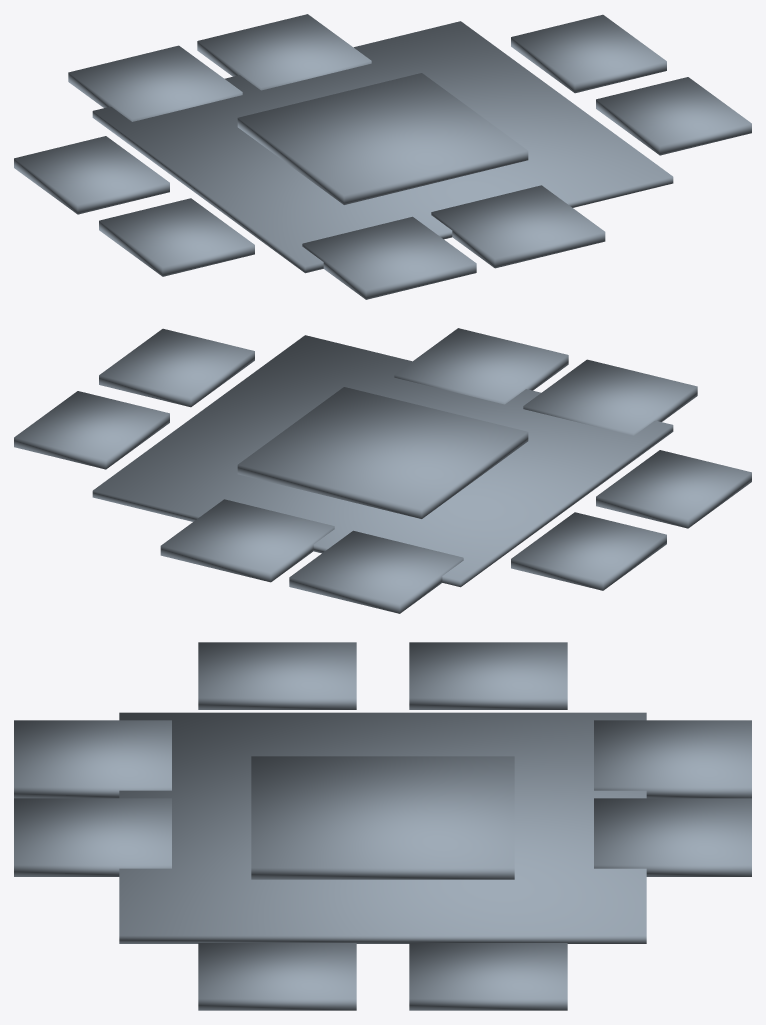
Rendered from gpu.obj.
3 renders of one model, top to bottom at view 1: azimuth 30°, elevation 25°; view 2: azimuth 150°, elevation 25°; view 3: azimuth 270°, elevation 25°, orthographic. The views are drawn at different scales.
Parts seen in each view (by area): view 1: gpu; view 2: gpu; view 3: gpu.
Boxes of the visible parts, left/top/right/bottom form: gpu: left=14, top=14, right=751, bottom=299; gpu: left=14, top=328, right=751, bottom=613; gpu: left=14, top=642, right=751, bottom=1010.
Size of the model in its own units: 64 by 1.7 by 56.
